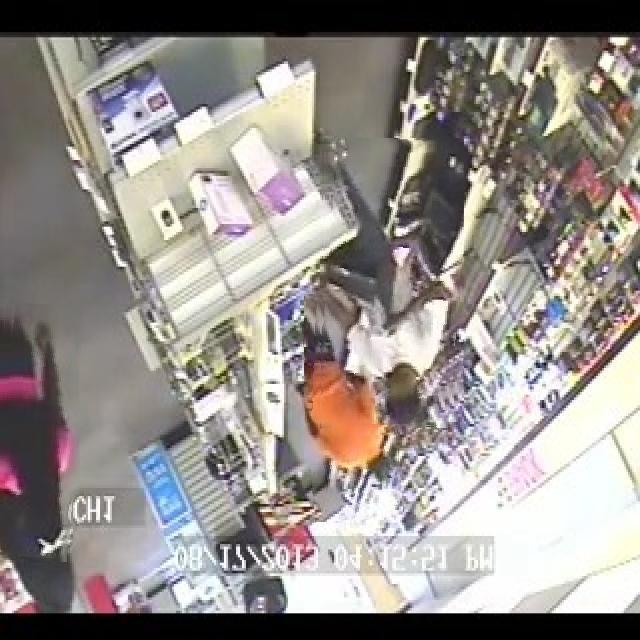Shoplifting: (320, 138, 464, 428)
normal: (304, 294, 400, 520), (0, 304, 79, 561)
